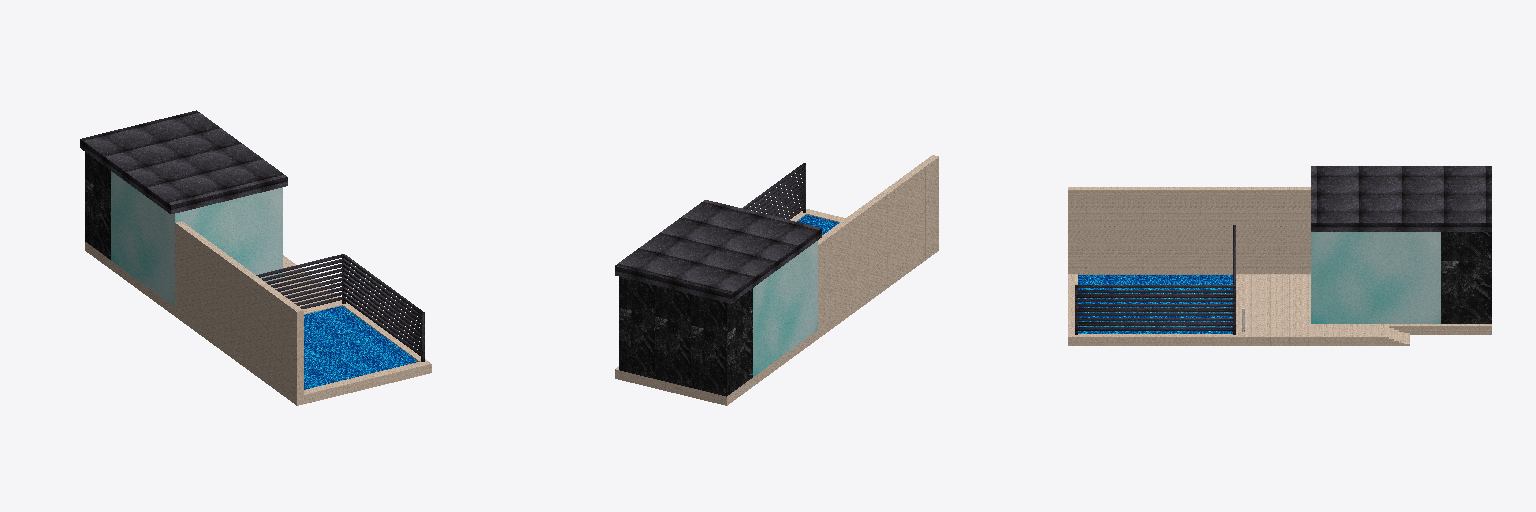
The picture shows the model from 3 angles: view 1: azimuth 30°, elevation 25°; view 2: azimuth 150°, elevation 25°; view 3: azimuth 270°, elevation 25°; orthographic projection.
Parts seen in each view (by area): view 1: Box016, Box021, Box019, Box014, Box020, Box017, Box008, Box015; view 2: Box020, Box021, Box016, Box019, Box009, Box008; view 3: Box016, Box019, Box021, Box008, Box020, Box014, Box015, Box009, Box040, Box036, Box039, Box041.
Part boxes in pixels (bbox=[...]): Box016: bbox=[175, 221, 303, 405]; Box021: bbox=[80, 110, 287, 213]; Box019: bbox=[111, 171, 282, 306]; Box014: bbox=[304, 306, 417, 389]; Box020: bbox=[85, 152, 110, 259]; Box017: bbox=[294, 360, 431, 405]; Box008: bbox=[137, 255, 346, 342]; Box015: bbox=[342, 303, 431, 374]; Box020: bbox=[619, 276, 752, 396]; Box021: bbox=[615, 200, 821, 303]; Box016: bbox=[818, 155, 938, 338]; Box019: bbox=[753, 241, 817, 376]; Box009: bbox=[615, 359, 778, 405]; Box008: bbox=[779, 302, 855, 366]; Box016: bbox=[1068, 187, 1310, 274]; Box019: bbox=[1311, 232, 1440, 323]; Box021: bbox=[1311, 166, 1491, 231]; Box008: bbox=[1233, 274, 1388, 345]; Box020: bbox=[1441, 232, 1491, 323]; Box014: bbox=[1078, 275, 1232, 333]; Box015: bbox=[1068, 334, 1232, 345]; Box009: bbox=[1389, 324, 1491, 334]; Box040: bbox=[1075, 327, 1235, 330]; Box036: bbox=[1075, 308, 1235, 311]; Box039: bbox=[1075, 294, 1235, 297]; Box041: bbox=[1075, 322, 1235, 325].
Size of the model in its own units: 31 by 24 by 82.
Materials: 6 (6 with a texture image).